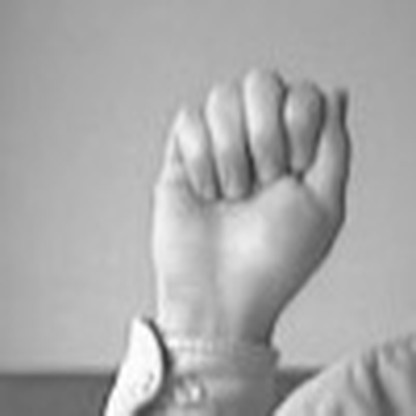a: (138, 58, 363, 309)
